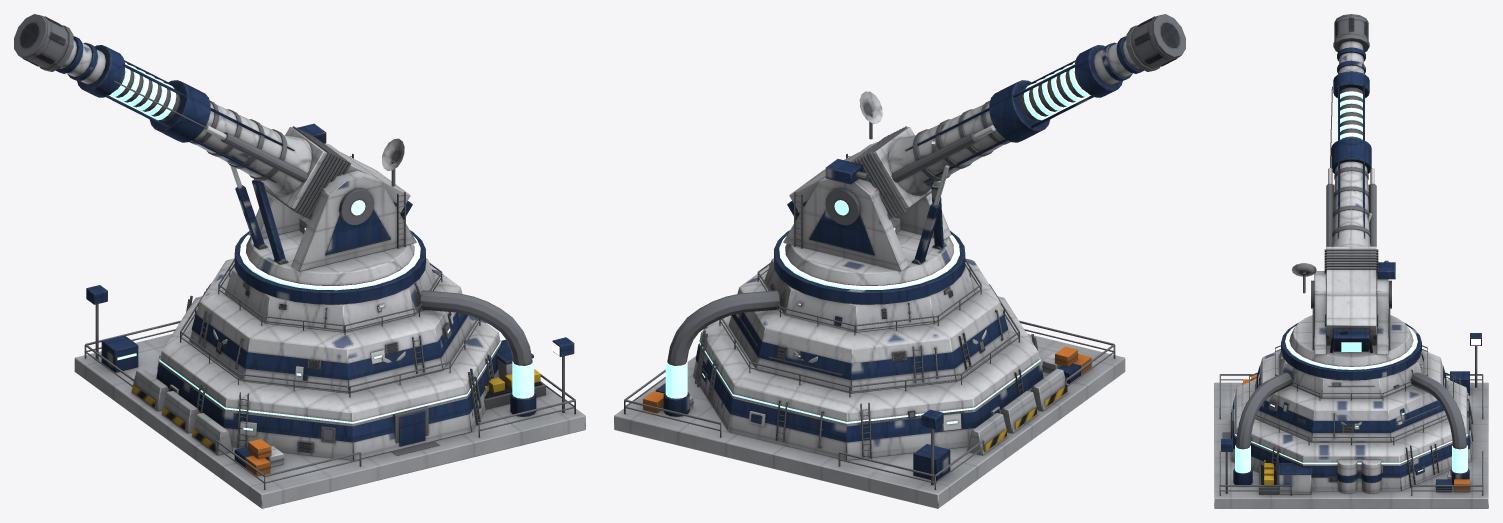
The model's file is 重製_行星防禦砲.glb.
The picture shows the model from 3 angles, left to right: view 1: azimuth 30°, elevation 25°; view 2: azimuth 150°, elevation 25°; view 3: azimuth 270°, elevation 25°; orthographic projection. The views are drawn at different scales.
Visible parts, largest first — view 1: Cannon_Mesh; view 2: Cannon_Mesh; view 3: Cannon_Mesh.
Part boxes in pixels (<box>): Cannon_Mesh: <box>14,14,585,508</box>; Cannon_Mesh: <box>614,14,1185,508</box>; Cannon_Mesh: <box>1214,14,1488,508</box>.
Size of the model in its own units: 19.96 by 18.33 by 13.66.
3 materials, 1 textured.
